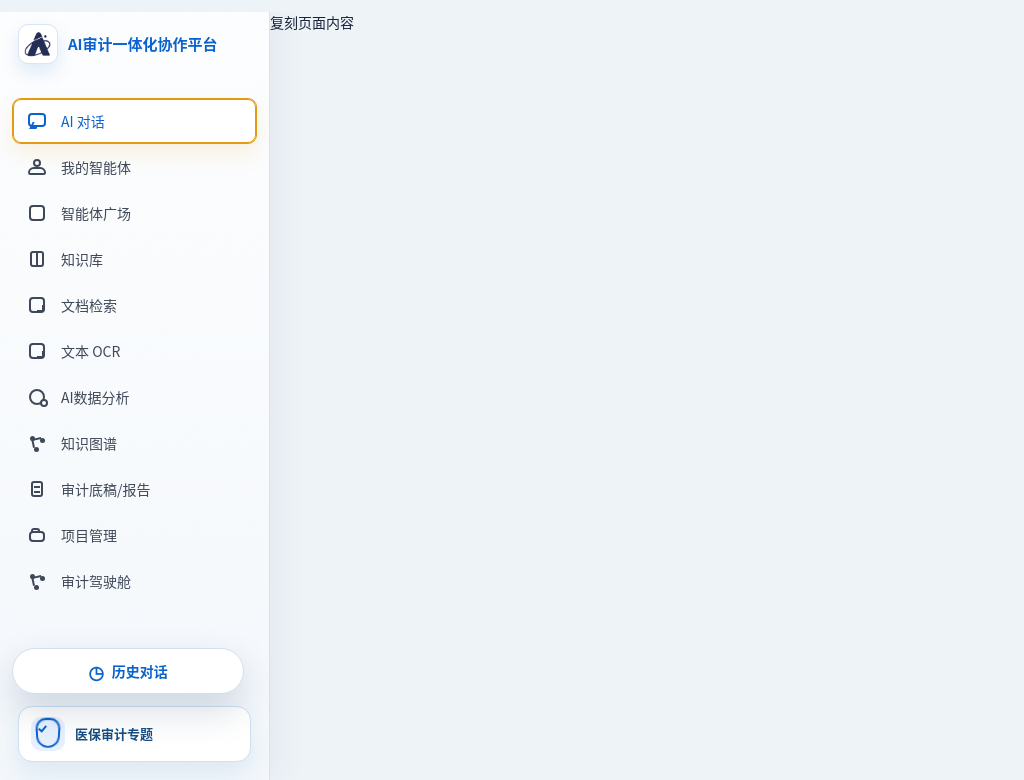
Test: ReplicaShell › blocks history conversion when projects are readable but persistent writes are unavailable
Click the button with aria-label "打开历史对话" at (128, 671), box [12,648,244,694]
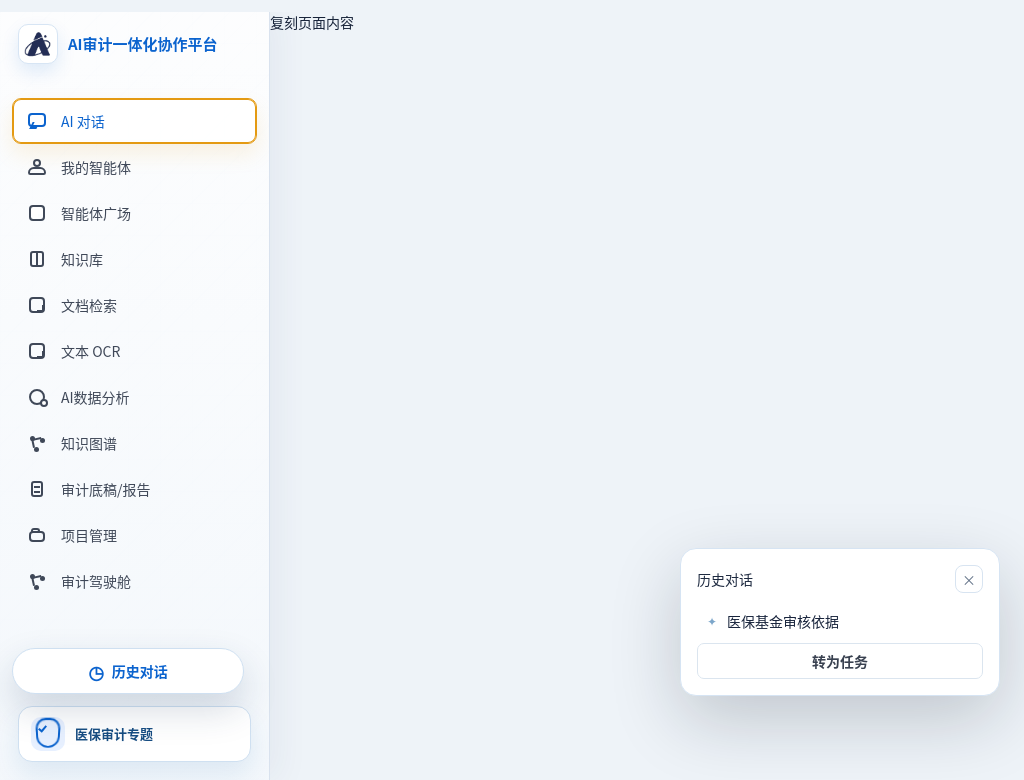
Click the button with aria-label "转为任务：医保基金审核依据" at (840, 661), box [697,643,983,679]
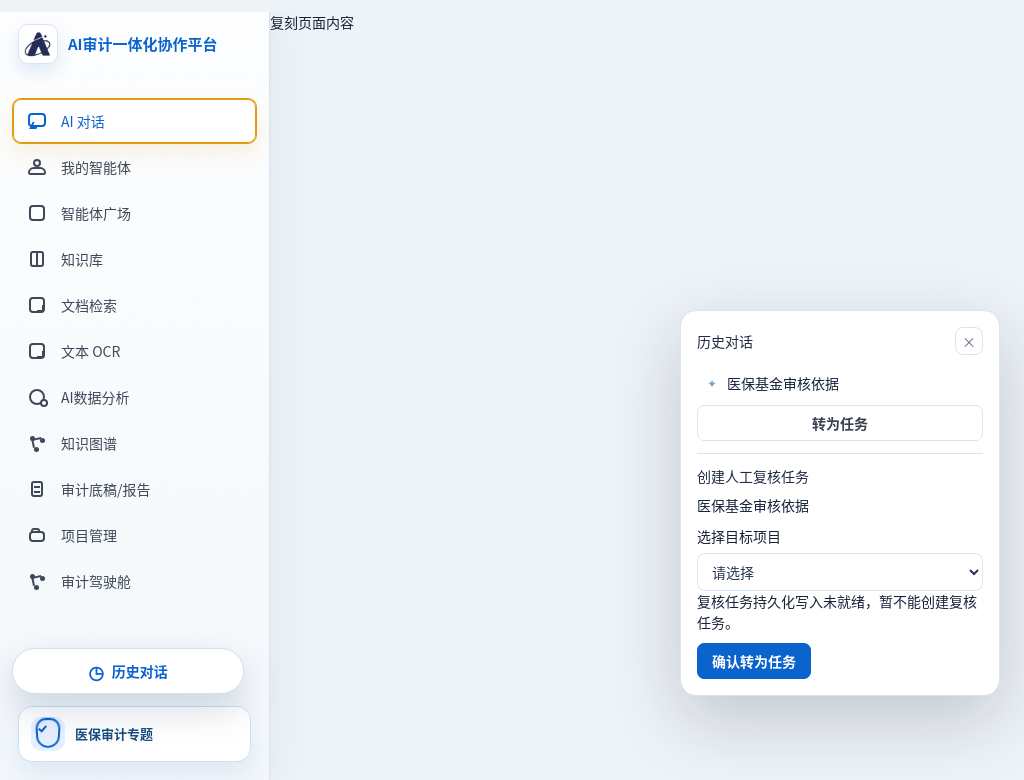
Expected: the message shows "复核任务持久化写入未就绪，暂不能创建复核任务", [697,591,977,632]
Select "医保基金使用合规专项自查" in the dropdown labelled "选择目标项目" at (840, 572), box [697,553,983,591]
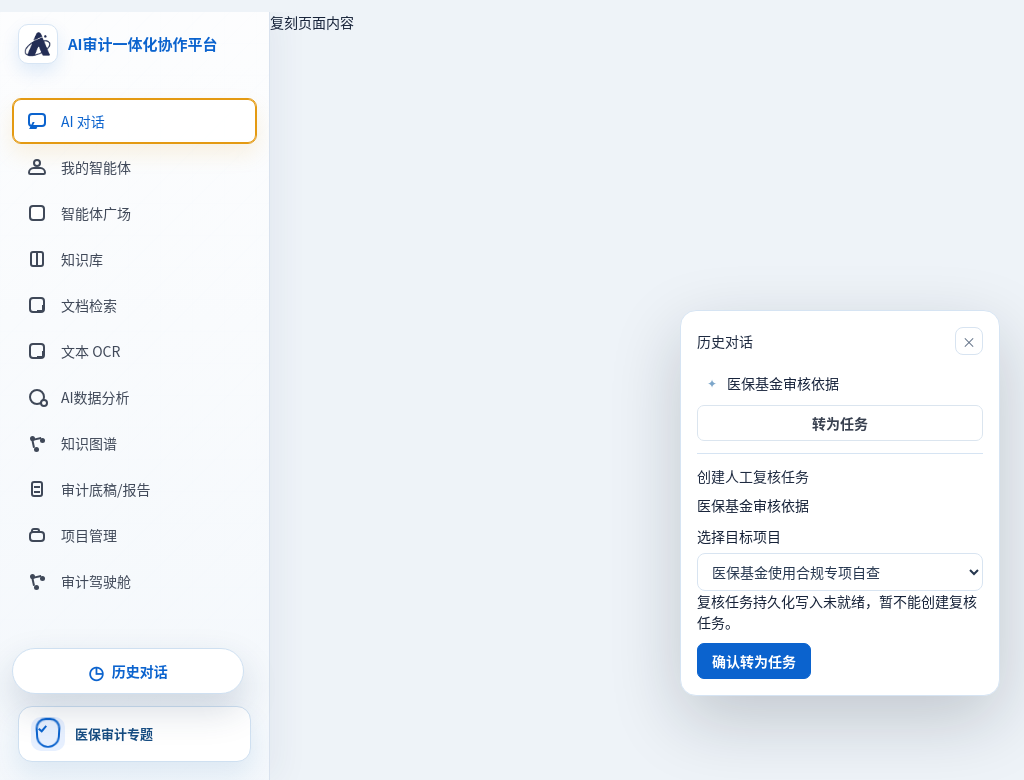
Expected: the button "确认转为任务" is disabled, [697,643,811,679]
Click the button named "关闭历史对话" at (969, 341), box [955,327,983,355]
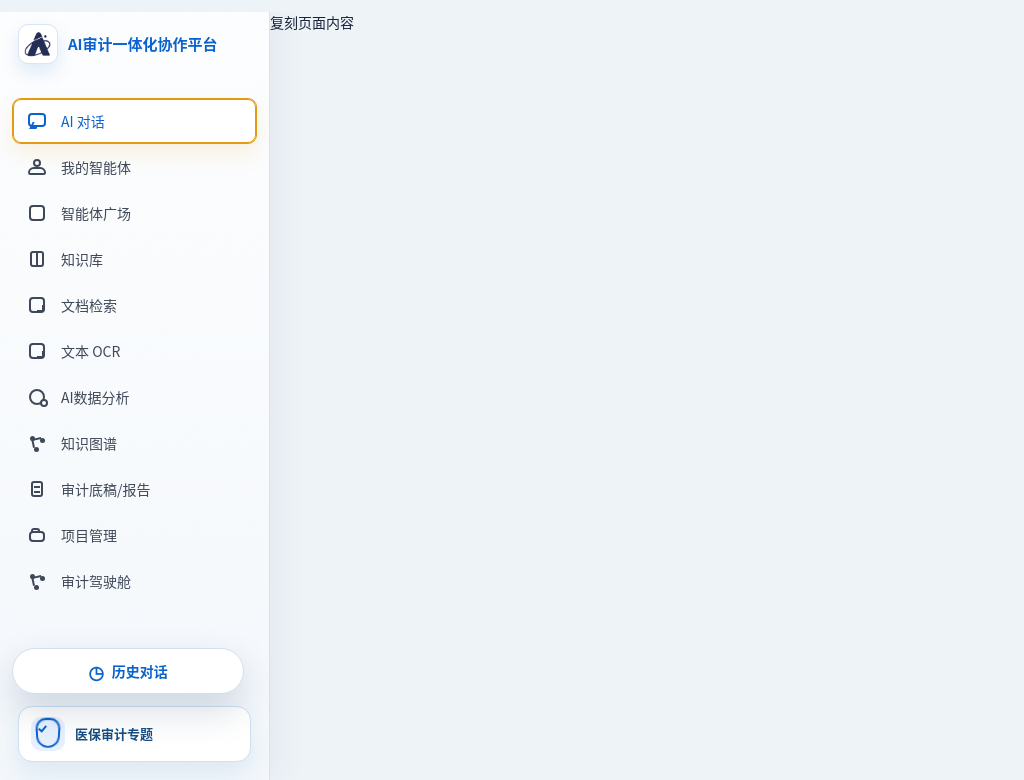
Click the button with aria-label "打开历史对话" at (128, 671), box [12,648,244,694]
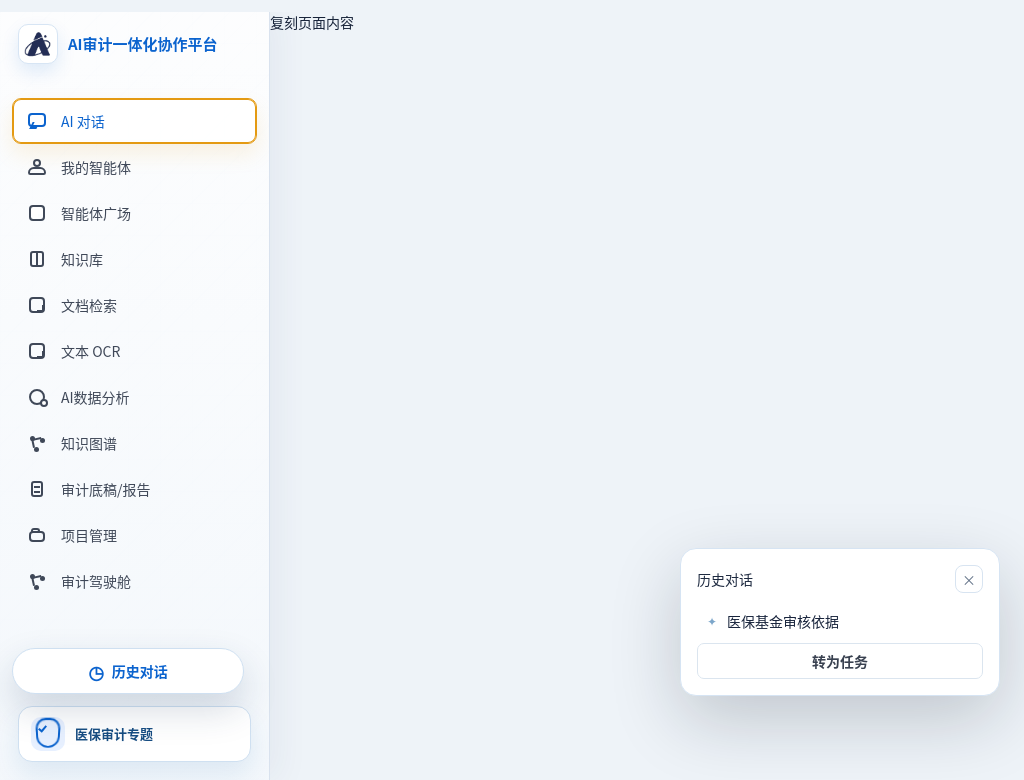
Click the button with aria-label "转为任务：医保基金审核依据" at (840, 661), box [697,643,983,679]
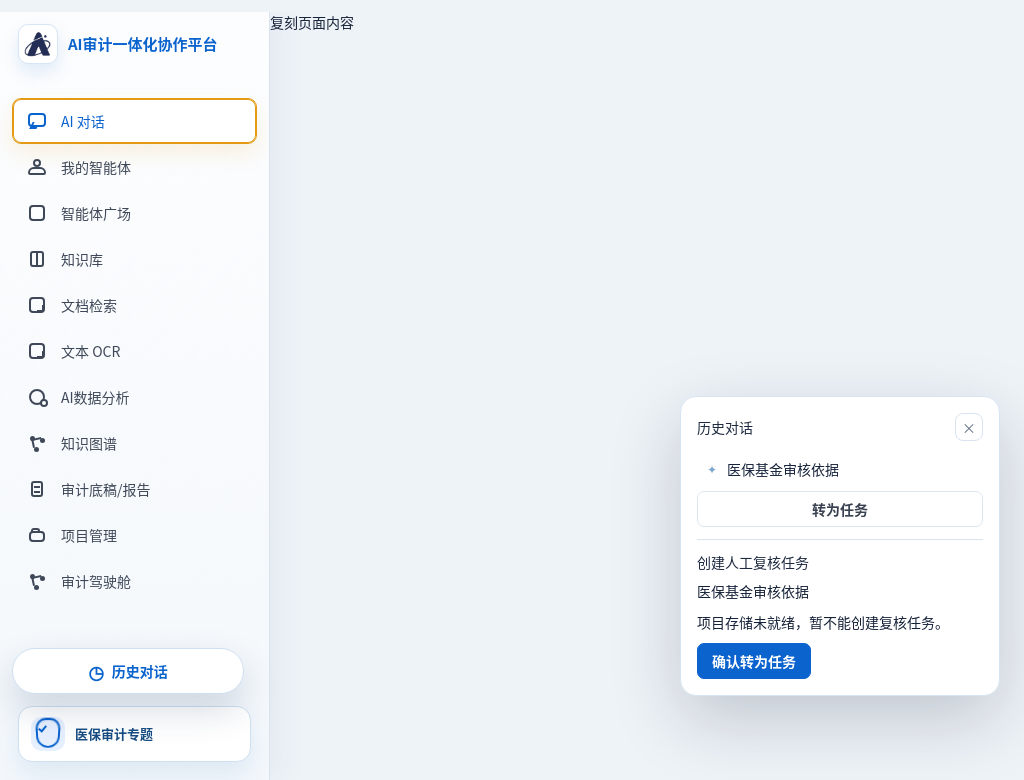
Expected: the message shows "项目存储未就绪，暂不能创建复核任务", [697,612,949,632]
Expected: the button "确认转为任务" is disabled, [697,643,811,679]
